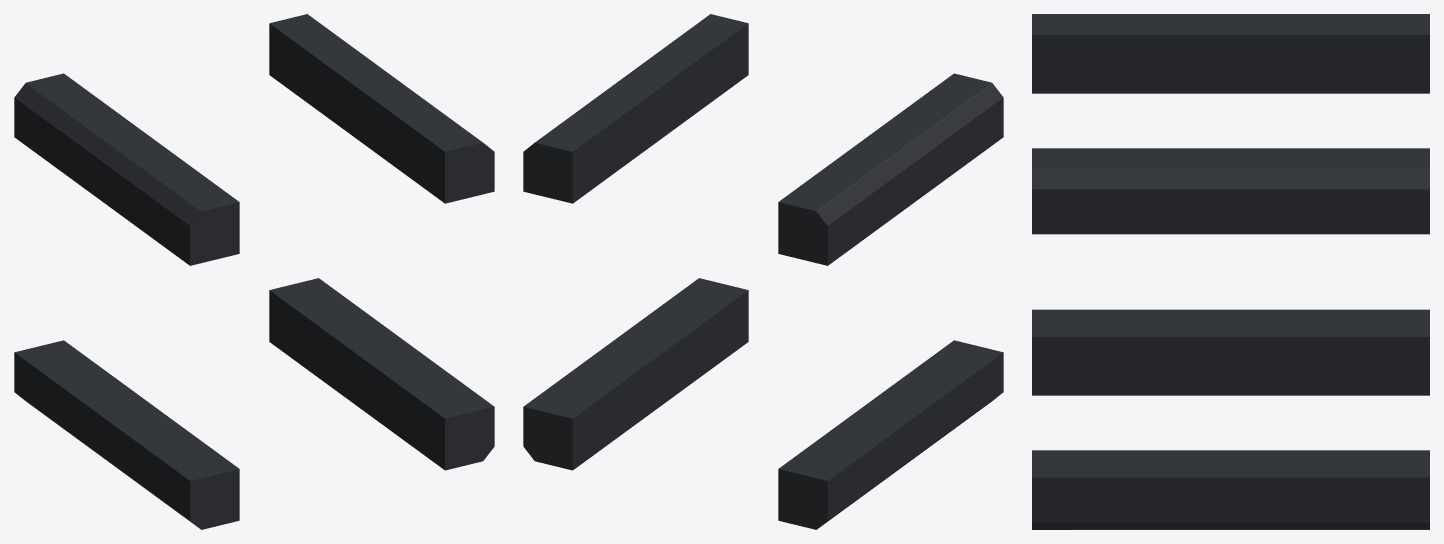
The model's file is half_pipe_south.obj.
The picture shows the model from 3 angles, left to right: view 1: azimuth 30°, elevation 25°; view 2: azimuth 150°, elevation 25°; view 3: azimuth 270°, elevation 25°; orthographic projection. The views are drawn at different scales.
Parts seen in each view (by area): view 1: half_pipe_rails; view 2: half_pipe_rails; view 3: half_pipe_rails.
Boxes of the visible parts, x1,y1,x2,y2 form: half_pipe_rails: [14, 14, 494, 529]; half_pipe_rails: [523, 14, 1003, 529]; half_pipe_rails: [1032, 14, 1429, 529].
Size of the model in its own units: 0.5 by 0.5 by 0.5.
